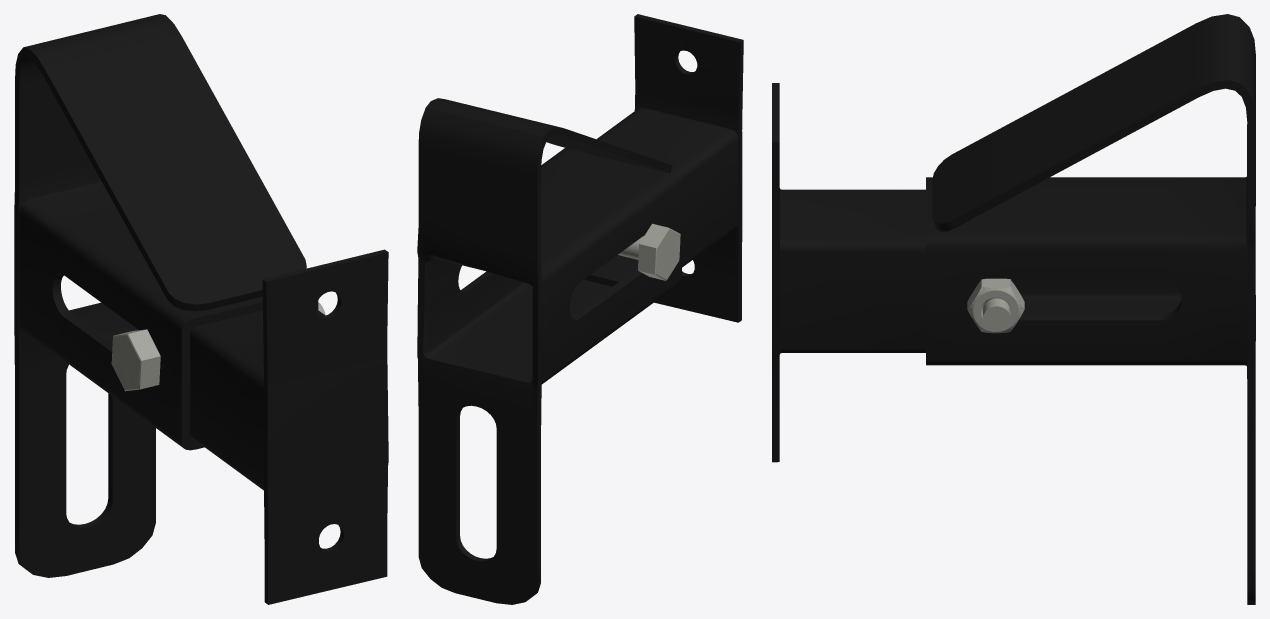
3 views of the same model, side by side, from view 1: azimuth 30°, elevation 25°; view 2: azimuth 150°, elevation 25°; view 3: azimuth 270°, elevation 25° (orthographic). The views are drawn at different scales.
Visible parts, largest first — view 1: WA0001; view 2: WA0001; view 3: WA0001.
Part boxes in pixels (x1,y1,x2,y2): WA0001: (14, 14, 388, 604); WA0001: (417, 14, 743, 604); WA0001: (772, 14, 1255, 604).
Size of the model in its own units: 44.33 by 120 by 97.17.
2 materials, 2 textured.
